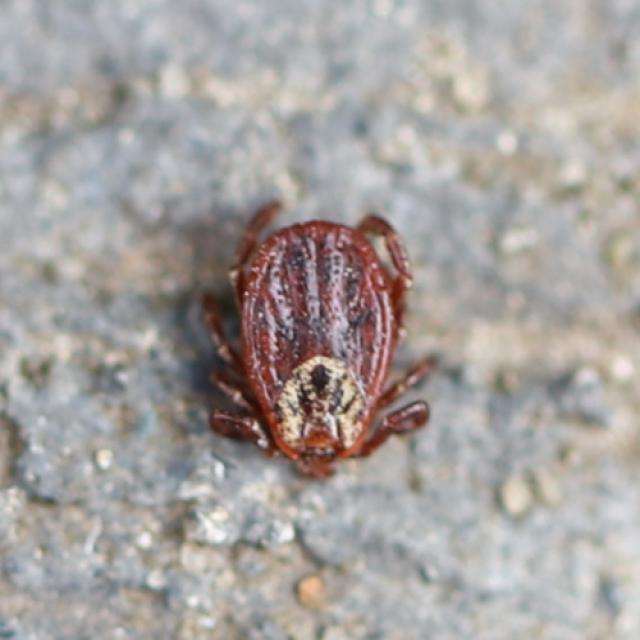Dermacentor Reticulatus-F: (205, 202, 438, 479)
